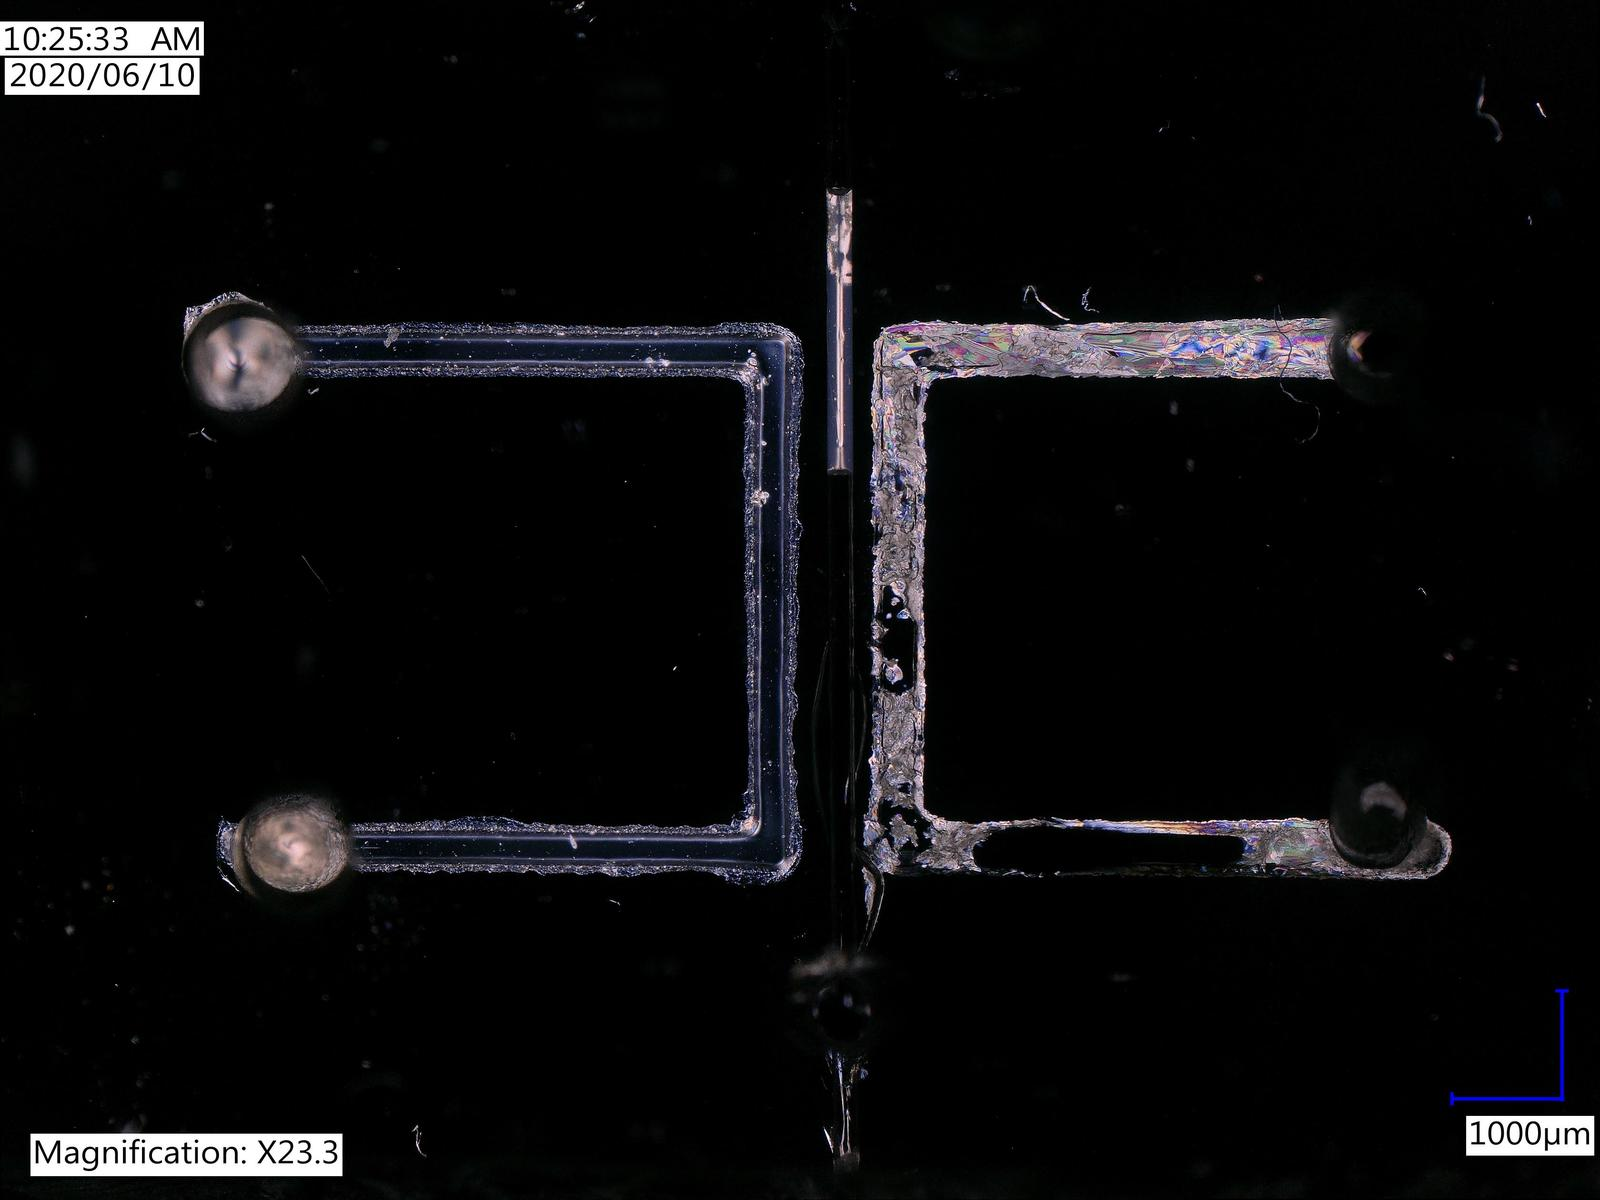sediment: (874, 689, 923, 809), (873, 364, 925, 466), (872, 487, 921, 585), (925, 821, 981, 871), (1240, 828, 1306, 867)
